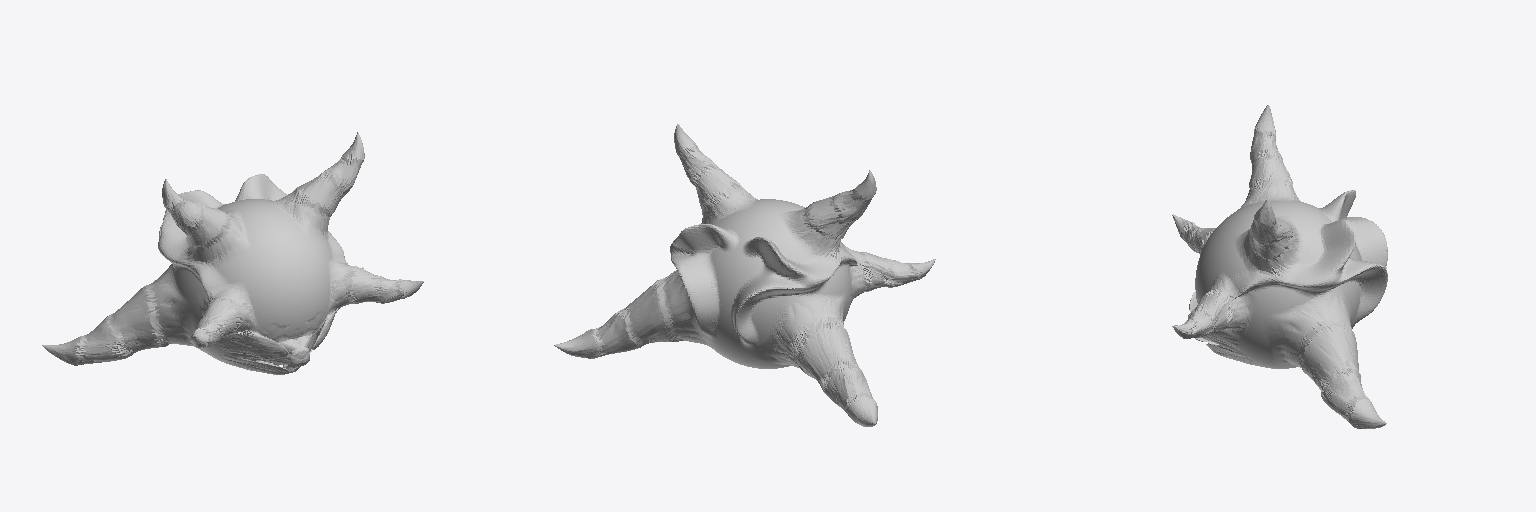
Rendered from luff.obj.
3 views of the same model, side by side, from view 1: azimuth 30°, elevation 25°; view 2: azimuth 150°, elevation 25°; view 3: azimuth 270°, elevation 25° (orthographic).
Visible parts, largest first — view 1: ZBrush_defualt_group; view 2: ZBrush_defualt_group; view 3: ZBrush_defualt_group.
Boxes of the visible parts, x1=… form: ZBrush_defualt_group: x1=42, y1=132, x2=423, y2=374; ZBrush_defualt_group: x1=554, y1=124, x2=935, y2=426; ZBrush_defualt_group: x1=1172, y1=105, x2=1387, y2=428.
Bounding box in the file's own units: 4.36 × 2.73 × 2.54.